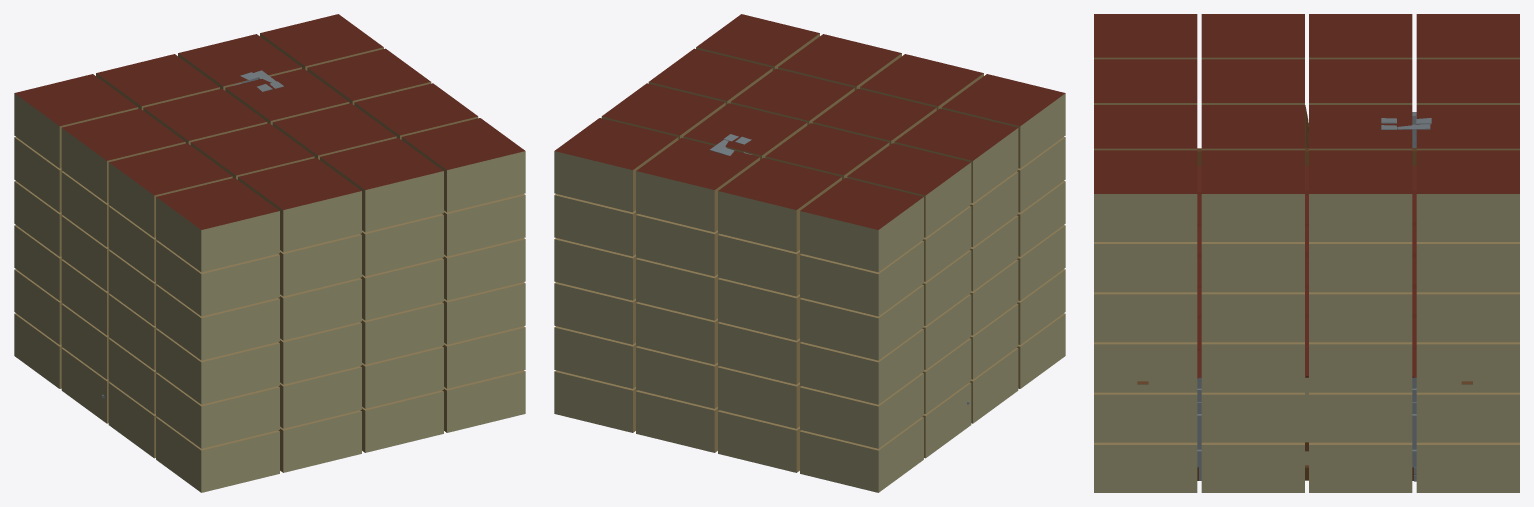
File: Blacksmith_destructible.gltf
3 renders of one model, left to right at view 1: azimuth 30°, elevation 25°; view 2: azimuth 150°, elevation 25°; view 3: azimuth 270°, elevation 25°, orthographic. The views are drawn at different scales.
Visible parts, largest first — view 1: block_f5_r3_c0, block_f5_r3_c3, block_f5_r3_c2, block_f5_r3_c1, block_f5_r1_c0, block_f5_r2_c0, block_f5_r0_c0, block_f0_r3_c0, block_f3_r3_c0, block_f1_r3_c0, block_f2_r3_c0, block_f4_r3_c0 (+39 smaller); view 2: block_f5_r0_c0, block_f5_r0_c2, block_f5_r0_c3, block_f5_r0_c1, block_f5_r1_c0, block_f5_r2_c0, block_f5_r3_c0, block_f0_r0_c0, block_f3_r0_c0, block_f1_r0_c0, block_f2_r0_c0, block_f4_r0_c0 (+39 smaller); view 3: block_f5_r0_c3, block_f5_r1_c3, block_f5_r2_c3, block_f5_r3_c3, block_f3_r1_c3, block_f3_r2_c3, block_f2_r1_c3, block_f2_r2_c3, block_f0_r1_c3, block_f0_r2_c3, block_f1_r1_c3, block_f1_r2_c3 (+24 smaller).
Part boxes in pixels (x1,y1,x2,y2): block_f5_r3_c0: (156,178,279,272); block_f5_r3_c3: (401,118,525,212); block_f5_r3_c2: (320,138,443,232); block_f5_r3_c1: (238,158,361,252); block_f5_r1_c0: (61,108,185,202); block_f5_r2_c0: (108,143,232,237); block_f5_r0_c0: (14,74,138,168); block_f0_r3_c0: (156,417,279,492); block_f3_r3_c0: (156,284,279,360); block_f1_r3_c0: (156,373,279,448); block_f2_r3_c0: (156,329,279,404); block_f4_r3_c0: (156,240,279,316); block_f5_r0_c0: (800,178,923,272); block_f5_r0_c2: (636,138,759,232); block_f5_r0_c3: (554,118,678,212); block_f5_r0_c1: (718,158,841,252); block_f5_r1_c0: (847,143,971,237); block_f5_r2_c0: (894,108,1018,202); block_f5_r3_c0: (941,74,1065,168); block_f0_r0_c0: (800,417,923,492); block_f3_r0_c0: (800,284,923,360); block_f1_r0_c0: (800,373,923,448); block_f2_r0_c0: (800,329,923,404); block_f4_r0_c0: (800,240,923,316); block_f5_r0_c3: (1416,150,1519,241); block_f5_r1_c3: (1309,150,1412,241); block_f5_r2_c3: (1201,150,1304,241); block_f5_r3_c3: (1094,150,1197,241); block_f3_r1_c3: (1307,256,1414,342); block_f3_r2_c3: (1199,256,1306,342); block_f2_r1_c3: (1307,323,1414,392); block_f2_r2_c3: (1199,323,1306,392); block_f0_r1_c3: (1307,428,1414,492); block_f0_r2_c3: (1199,428,1306,492); block_f1_r1_c3: (1307,378,1414,442); block_f1_r2_c3: (1199,378,1306,442).
Size of the model in its own units: 10.5 by 8.11 by 10.39.
